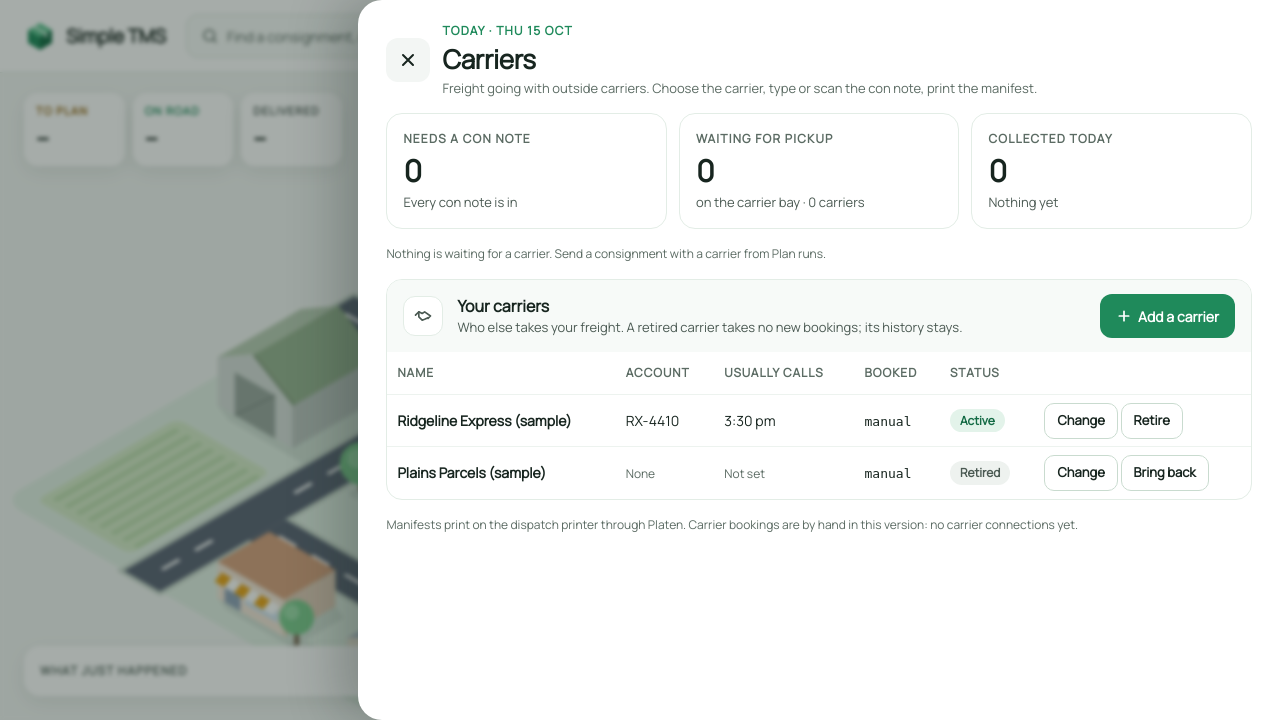
Test: Carriers: your carriers › says beside a carrier why it couldn't be retired
What coordinates should you click on to do the following:
click the button "Retire"
I would click on:
 (1152, 420)
Its box is [1120,402,1183,438].
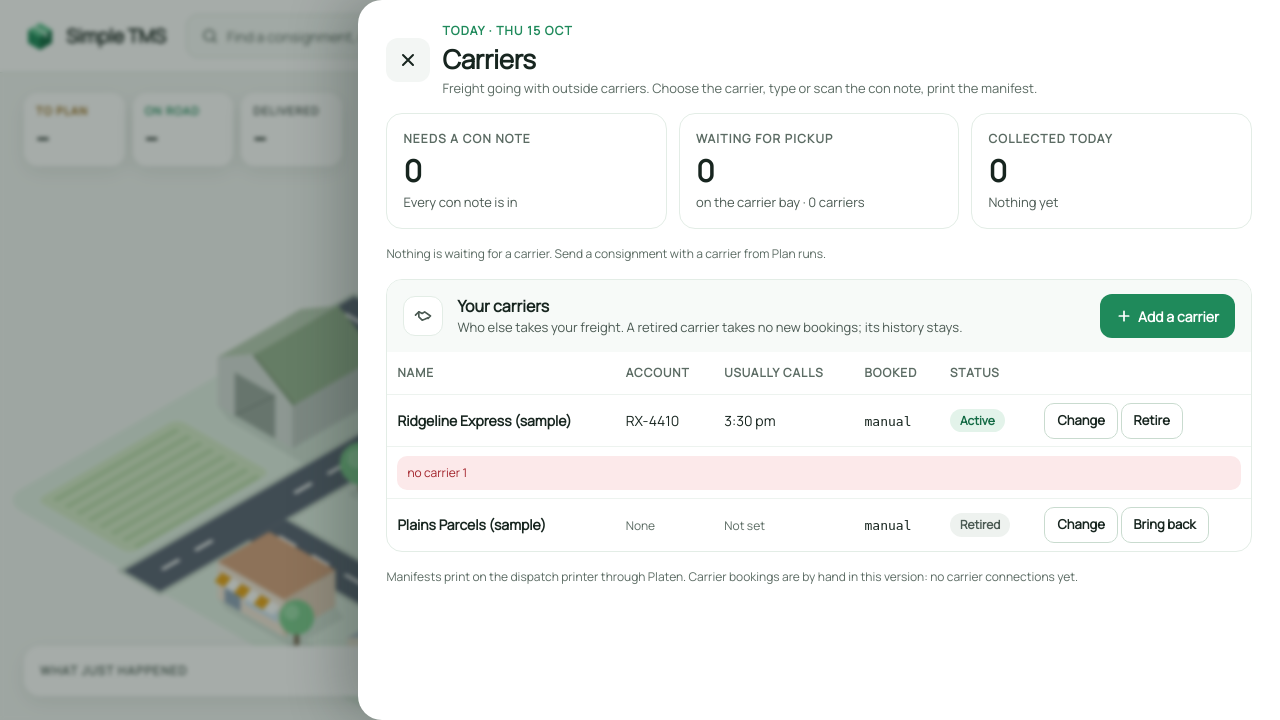
Check: the message reads "no carrier 1", box [407,464,467,480]
